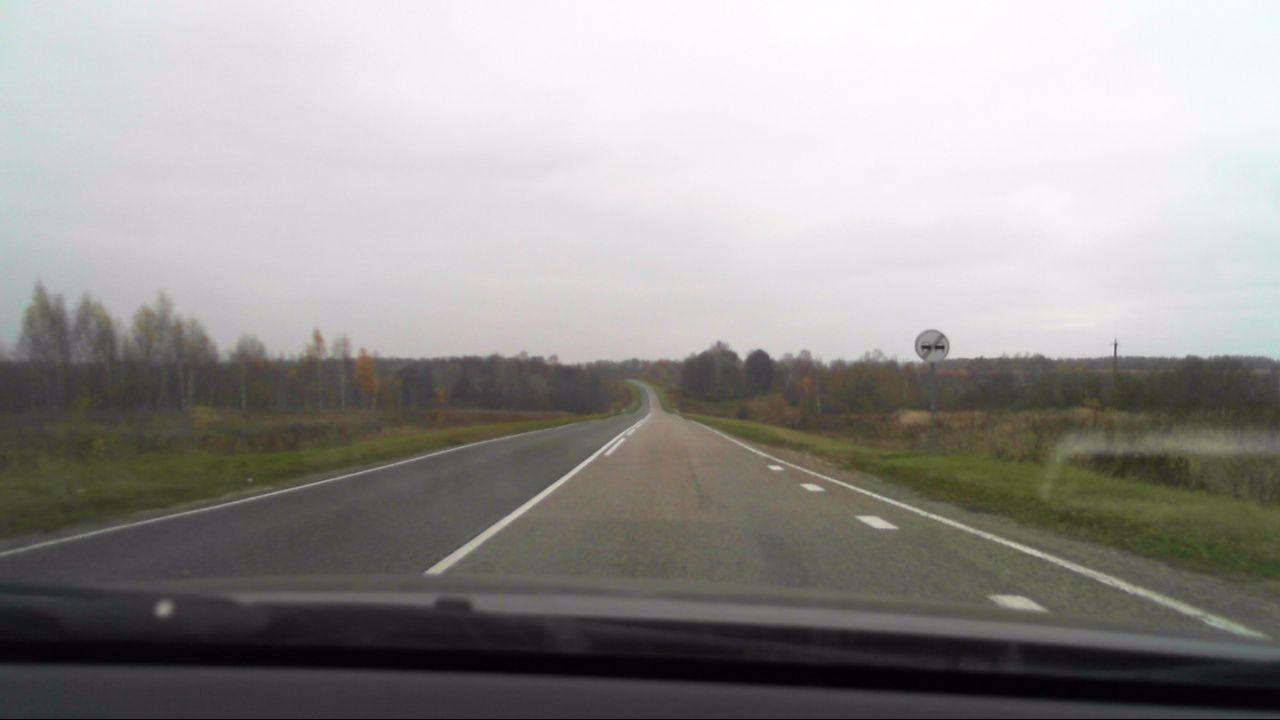3_21: (915, 327, 950, 365)
